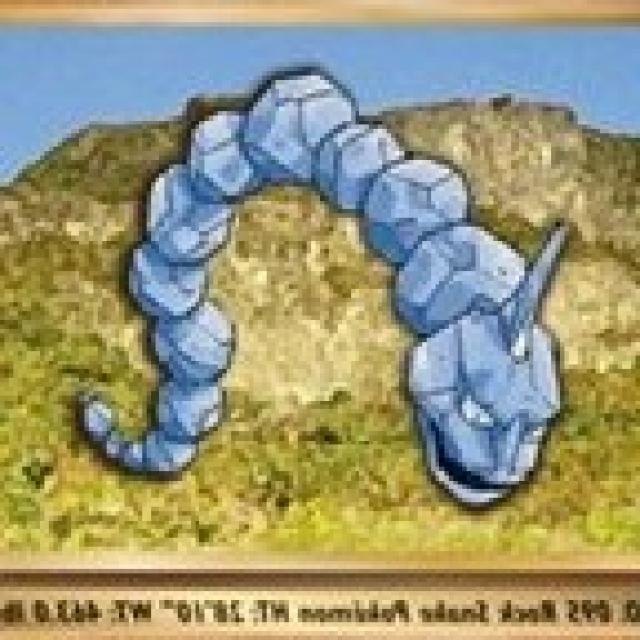Onix: (106, 74, 560, 521)
